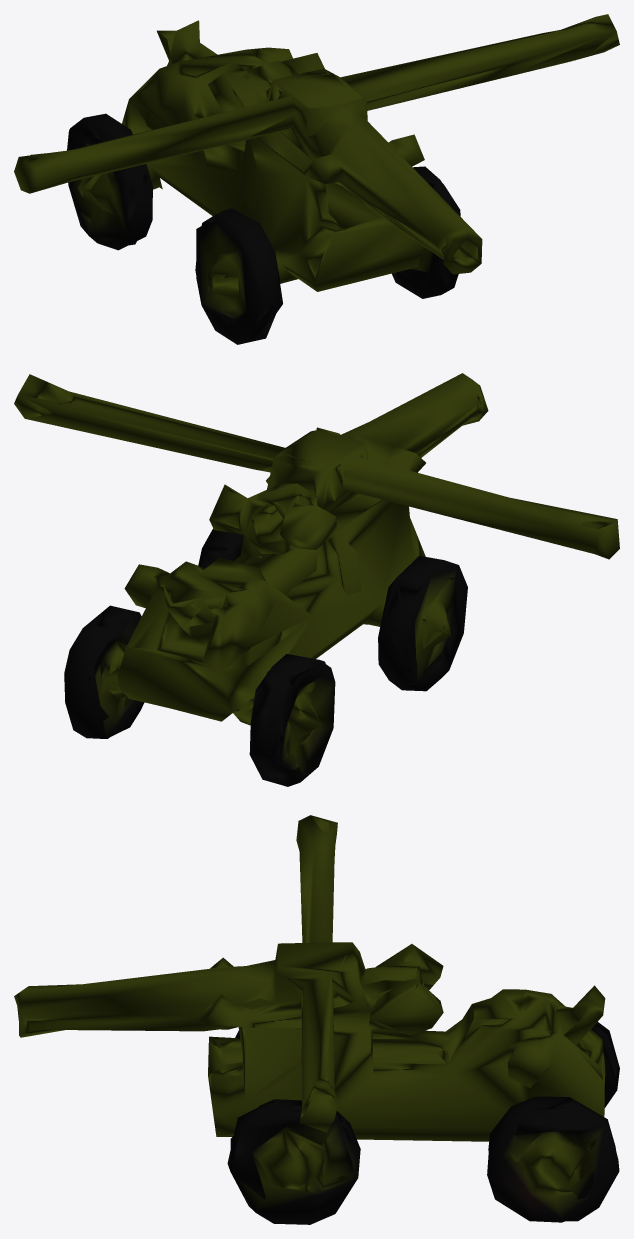
The model's file is gen3d-howitzer-lod1.glb.
3 views of the same model, one above another, from view 1: azimuth 30°, elevation 25°; view 2: azimuth 150°, elevation 25°; view 3: azimuth 270°, elevation 25° (orthographic).
Visible parts, largest first — view 1: part_0; view 2: part_0; view 3: part_0.
Part boxes in pixels (left/top/right/bottom): part_0: left=14, top=14, right=619, bottom=344; part_0: left=14, top=373, right=619, bottom=786; part_0: left=14, top=815, right=619, bottom=1224.
Bounding box in the file's own units: 2.75 × 0.9933 × 2.45.
